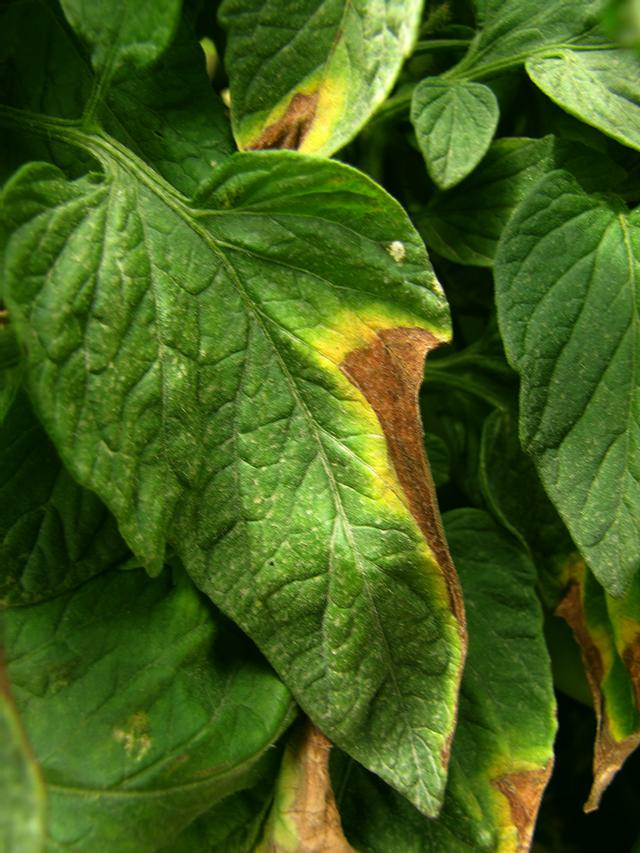Tomato leaf bacterial spot: (13, 135, 470, 821)
